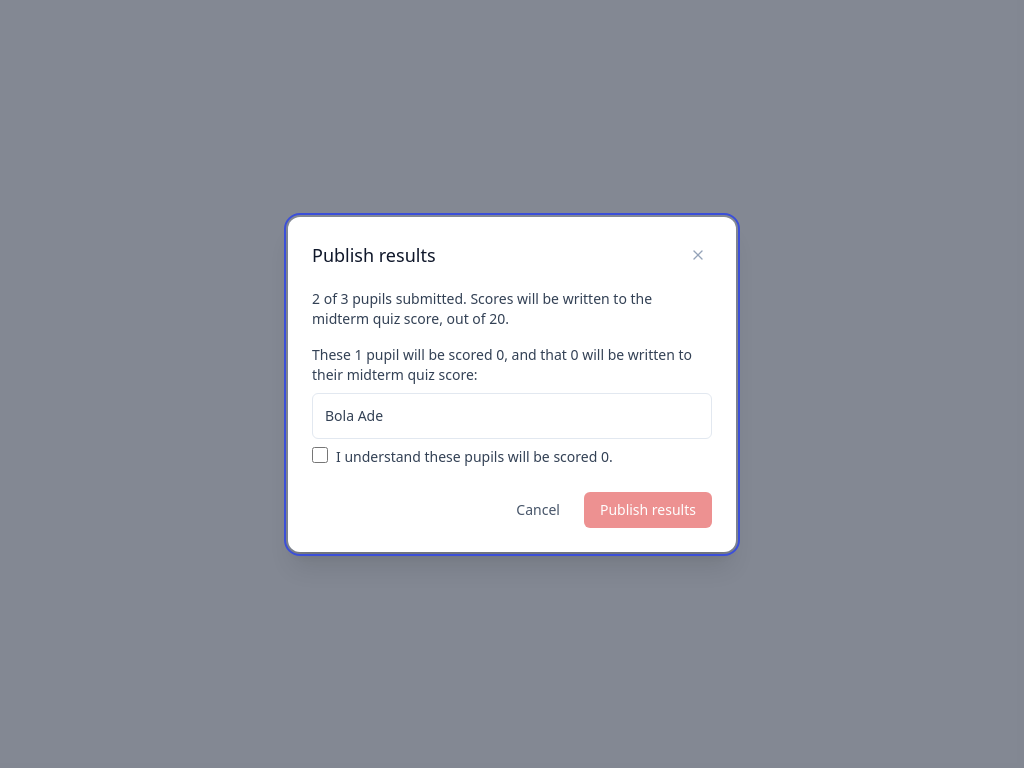
PublishResultsModal › publishes and shows the write-back outcome, including a failed row
Expected: the text "Bola Ade" is shown, x1=325 y1=406 x2=383 y2=424
Click the checkbox at point(320, 454), box x1=312 y1=446 x2=328 y2=462
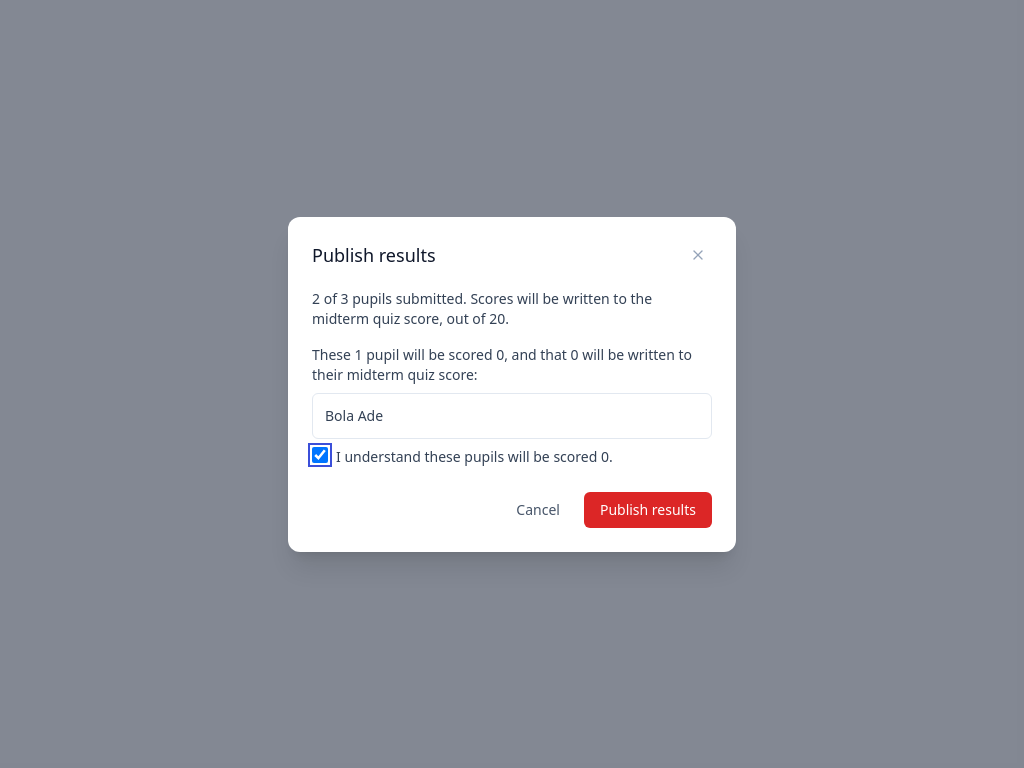
Click the button "Publish results" at point(648, 510), box x1=584 y1=492 x2=712 y2=528
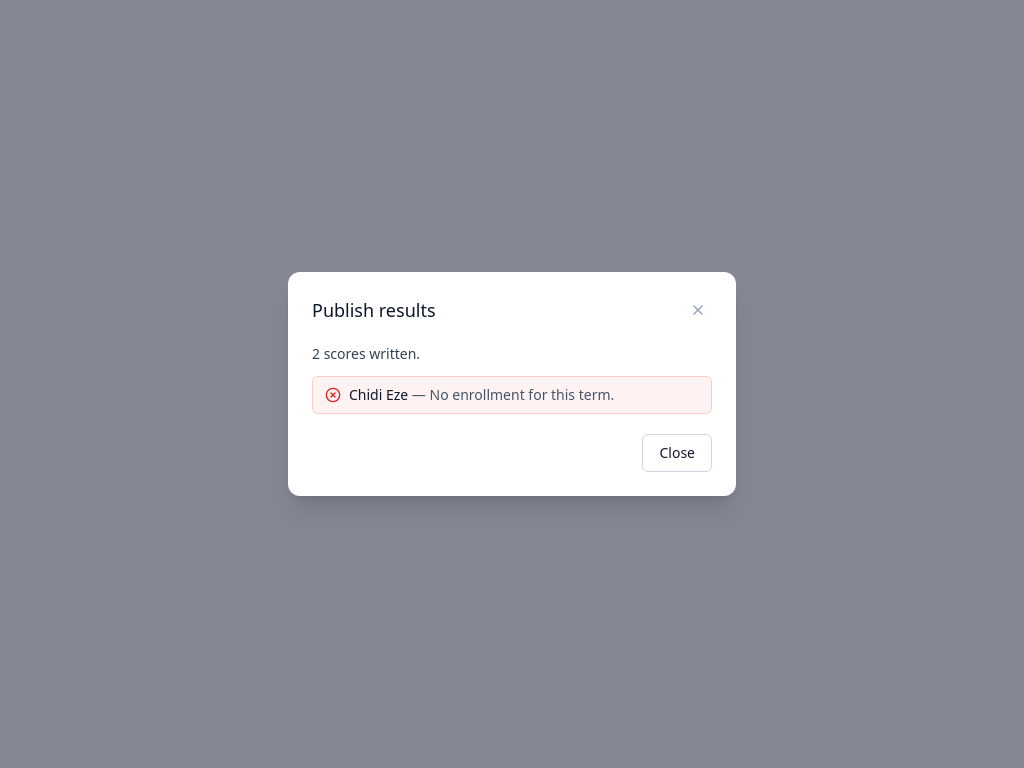
Expected: the text "2" is shown, x1=312 y1=344 x2=320 y2=363
Now the text "Chidi Eze" is shown, box x1=349 y1=385 x2=408 y2=404
Now the text "— No enrollment for this term." is shown, box x1=408 y1=385 x2=614 y2=404
